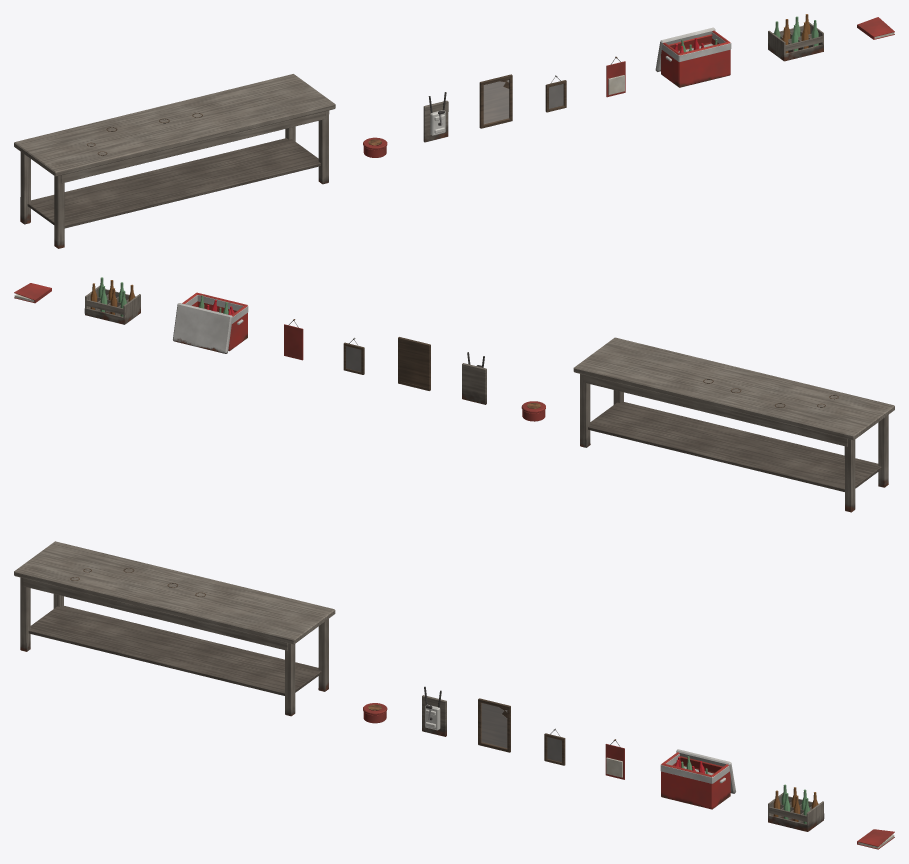
Rendered from ShackInteriorProps.fbx.
3 renders of one model, top to bottom at view 1: azimuth 30°, elevation 25°; view 2: azimuth 150°, elevation 25°; view 3: azimuth 330°, elevation 25°, orthographic.
Visible parts, largest first — view 1: CounterTable, IceBox, SodaCrate, OldMirror, OldMirror_Glass, CutoutSwitch, IceBox_Lid, CompendiumBook; view 2: CounterTable, IceBox_Lid, SodaCrate, OldMirror, IceBox, CutoutSwitch, WallCalendar, CompendiumBook; view 3: CounterTable, IceBox, SodaCrate, OldMirror, OldMirror_Glass, CutoutSwitch, IceBox_Lid.
Boxes of the visible parts, bbox=[...] form: CounterTable: bbox=[14, 74, 335, 248]; IceBox: bbox=[661, 30, 731, 87]; SodaCrate: bbox=[768, 14, 823, 61]; OldMirror: bbox=[479, 74, 512, 128]; OldMirror_Glass: bbox=[483, 80, 509, 123]; CutoutSwitch: bbox=[423, 92, 448, 142]; IceBox_Lid: bbox=[655, 27, 715, 71]; CompendiumBook: bbox=[857, 17, 894, 39]; CounterTable: bbox=[573, 337, 894, 512]; IceBox_Lid: bbox=[173, 303, 232, 353]; SodaCrate: bbox=[84, 277, 140, 324]; OldMirror: bbox=[398, 337, 430, 390]; IceBox: bbox=[182, 292, 248, 351]; CutoutSwitch: bbox=[462, 352, 486, 404]; WallCalendar: bbox=[284, 319, 303, 360]; CompendiumBook: bbox=[14, 283, 51, 303]; CounterTable: bbox=[14, 541, 335, 716]; IceBox: bbox=[660, 752, 730, 809]; SodaCrate: bbox=[768, 784, 824, 831]; OldMirror: bbox=[478, 698, 510, 752]; OldMirror_Glass: bbox=[481, 703, 507, 747]; CutoutSwitch: bbox=[422, 686, 446, 736]; IceBox_Lid: bbox=[676, 749, 735, 793].
Bounding box in the file's own units: 1191 × 107 × 101.
2 materials, 1 textured.
